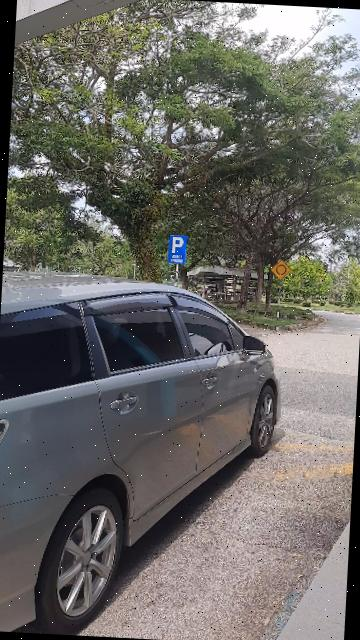car: (1, 265, 317, 640)
